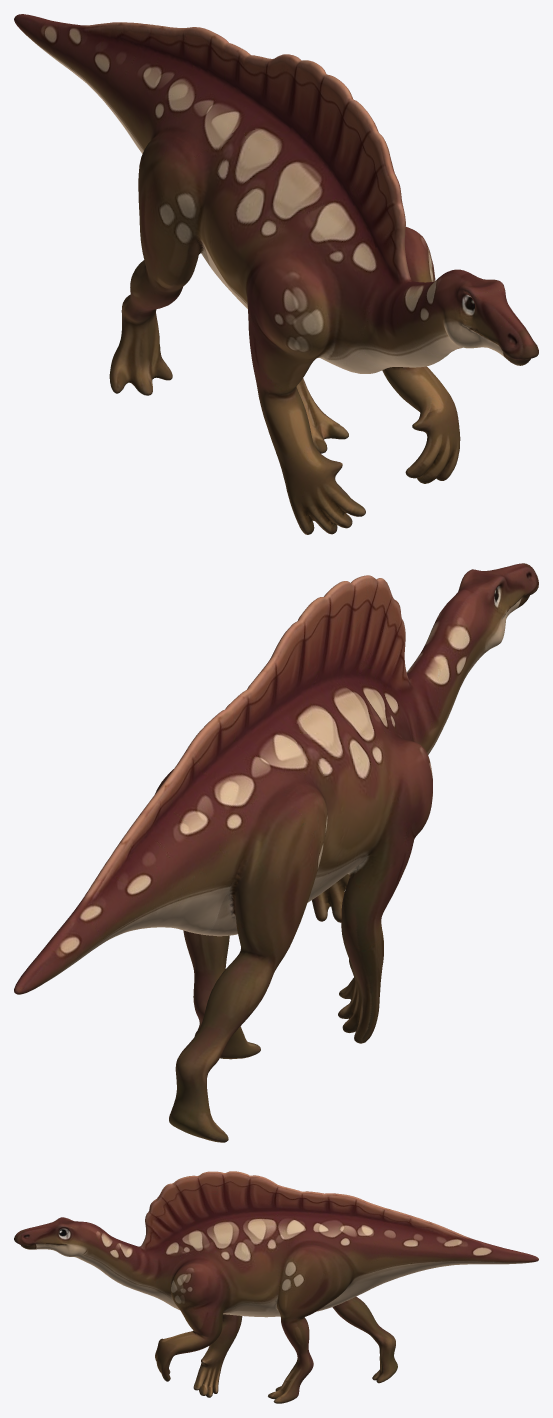
The model's file is U-dino.glb.
The picture shows the model from 3 angles, top to bottom: view 1: azimuth 30°, elevation 25°; view 2: azimuth 150°, elevation 25°; view 3: azimuth 270°, elevation 25°; orthographic projection. The views are drawn at different scales.
Bounding box in the file's own units: 0.3458 × 0.9128 × 1.9.
Materials: 1 (1 with a texture image).
